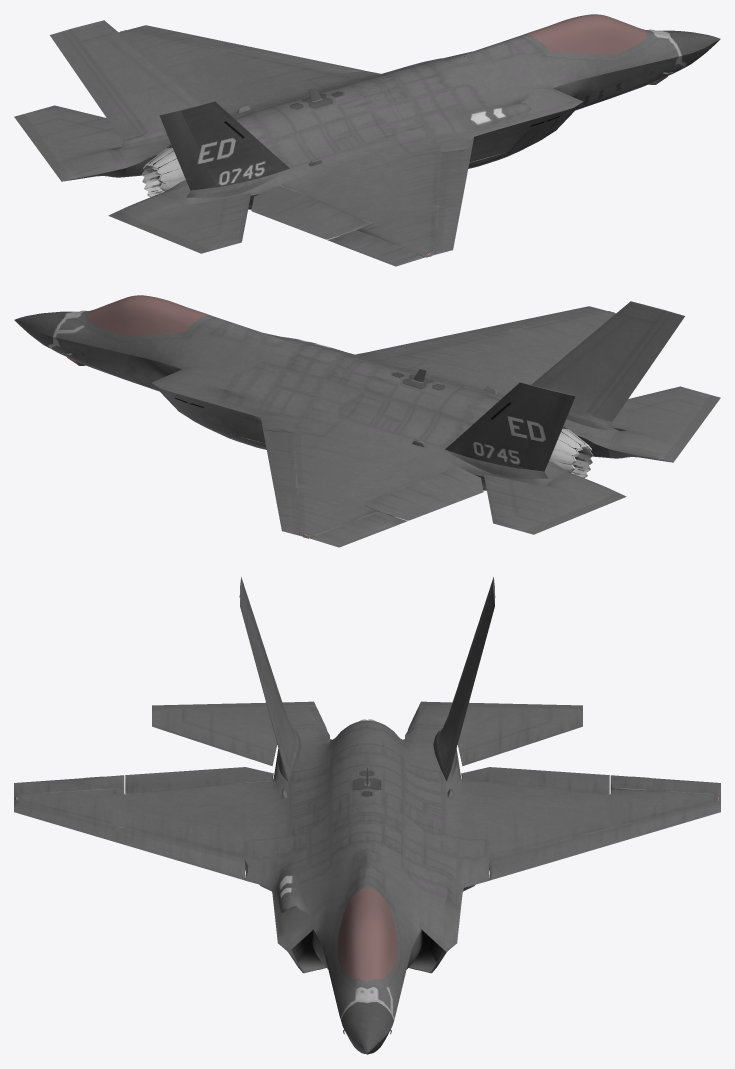
Rendered from f-35a_lightning_ii__usaf_warno_mod-maximum-compressed.glb.
3 renders of one model, top to bottom at view 1: azimuth 30°, elevation 25°; view 2: azimuth 150°, elevation 25°; view 3: azimuth 270°, elevation 25°, orthographic. The views are drawn at different scales.
Visible parts, largest first — view 1: Chassis_59, Elevator_G_12, Elevator_D_11, Window_58, Rudder_1_39, Rudder_2_40, Aileron_D_8; view 2: Chassis_59, Elevator_D_11, Elevator_G_12, Window_58, Rudder_2_40, Rudder_1_39, Aileron_G_9; view 3: Chassis_59, Elevator_D_11, Elevator_G_12, Window_58, Aileron_G_9, Aileron_D_8.
Part boxes in pixels (x1=…): Chassis_59: x1=71, y1=20, x2=720, y2=257; Elevator_G_12: x1=14, y1=105, x2=126, y2=181; Elevator_D_11: x1=108, y1=192, x2=250, y2=253; Window_58: x1=528, y1=14, x2=646, y2=54; Rudder_1_39: x1=50, y1=29, x2=147, y2=140; Rudder_2_40: x1=159, y1=109, x2=216, y2=190; Aileron_D_8: x1=327, y1=230, x2=423, y2=266; Chassis_59: x1=14, y1=301, x2=663, y2=538; Elevator_D_11: x1=608, y1=386, x2=720, y2=462; Elevator_G_12: x1=484, y1=473, x2=626, y2=534; Window_58: x1=88, y1=295, x2=206, y2=335; Rudder_2_40: x1=587, y1=310, x2=684, y2=421; Rudder_1_39: x1=518, y1=390, x2=575, y2=471; Aileron_G_9: x1=311, y1=511, x2=407, y2=547; Chassis_59: x1=14, y1=587, x2=720, y2=1054; Elevator_D_11: x1=152, y1=701, x2=327, y2=766; Elevator_G_12: x1=407, y1=701, x2=582, y2=766; Window_58: x1=337, y1=887, x2=397, y2=981; Aileron_G_9: x1=610, y1=775, x2=720, y2=796; Aileron_D_8: x1=14, y1=775, x2=124, y2=796.
Bounding box in the file's own units: 15.73 × 3.96 × 13.16.
2 materials, 1 textured.
